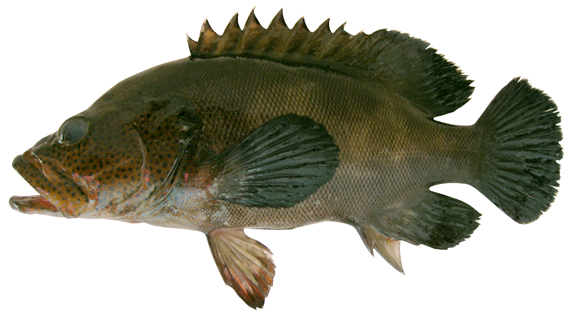fish: (10, 8, 563, 309)
